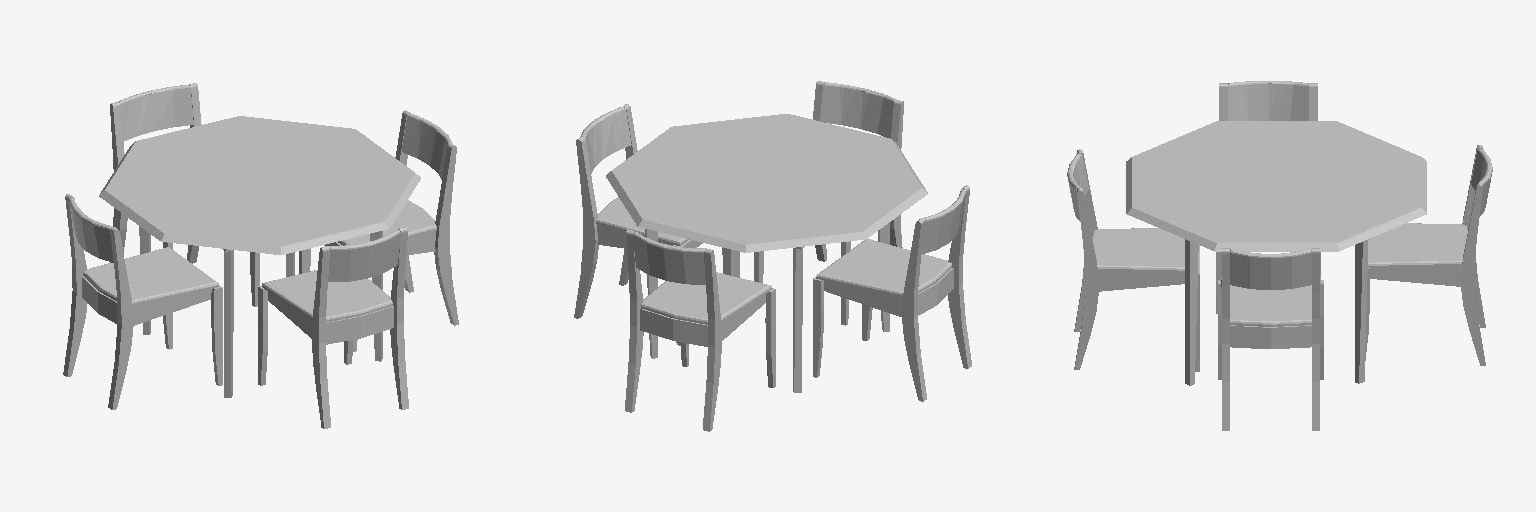
The model's file is Dinning-Set.obj.
The picture shows the model from 3 angles: view 1: azimuth 30°, elevation 25°; view 2: azimuth 150°, elevation 25°; view 3: azimuth 270°, elevation 25°; orthographic projection.
Bounding box in the file's own units: 66.44 × 31.6 × 67.9.